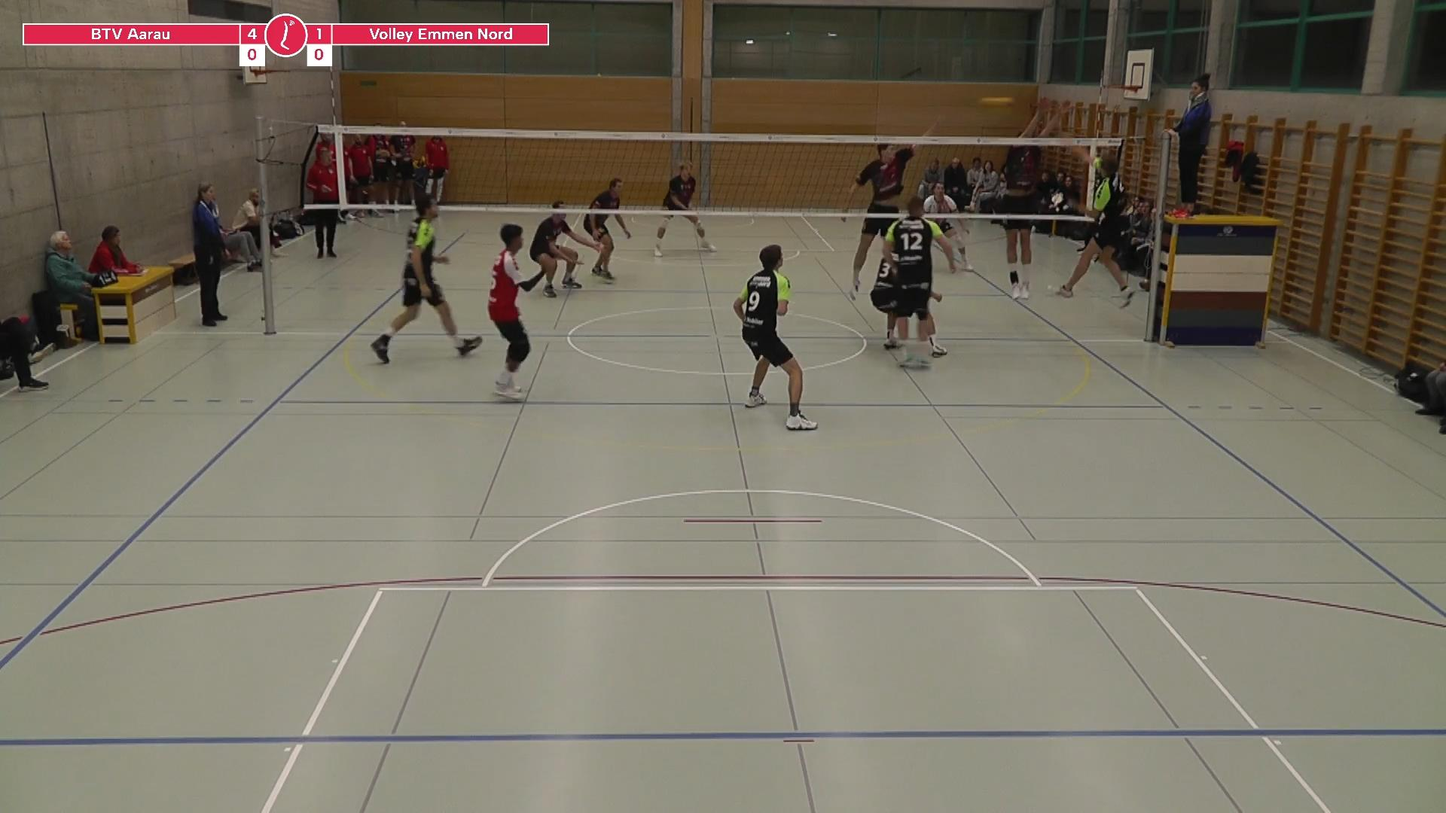attacco: (1050, 130, 1145, 314)
muro: (845, 103, 928, 283), (993, 105, 1057, 298)
